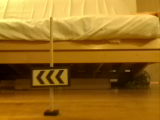left: (31, 67, 69, 86)
